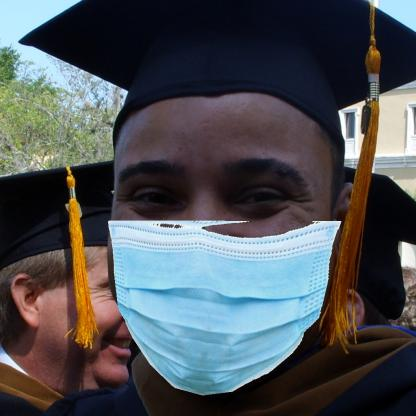Correctly_Masked: (106, 97, 339, 401)
